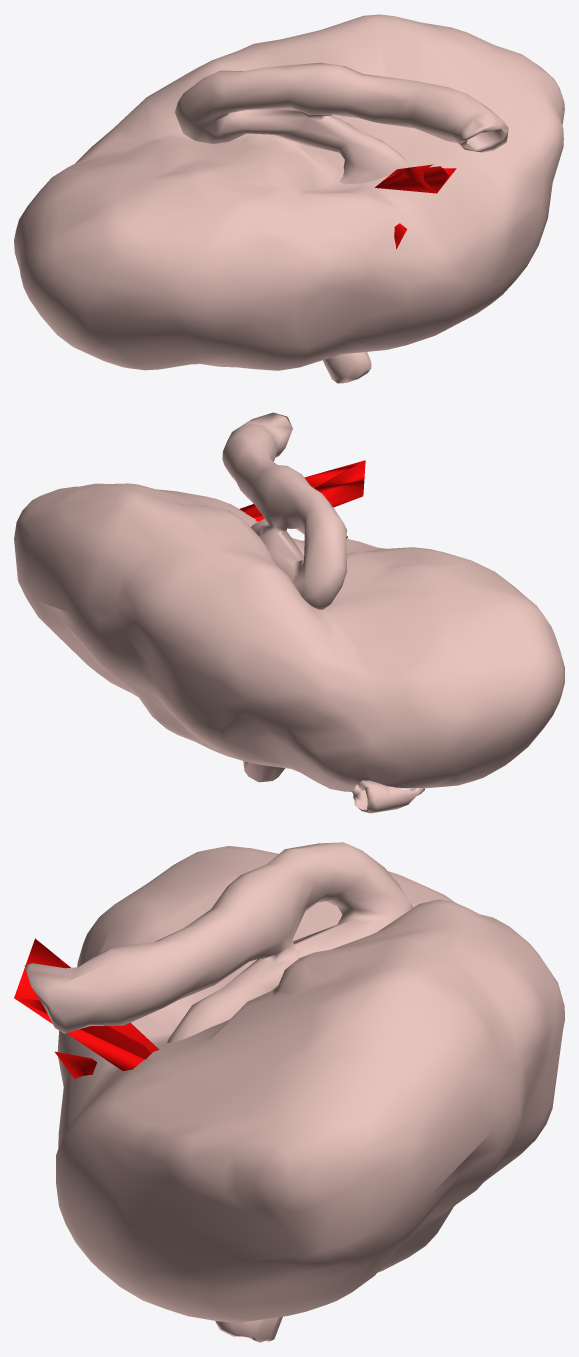
The model's file is NIH_F_Lymph_Node.glb.
The picture shows the model from 3 angles, top to bottom: view 1: azimuth 30°, elevation 25°; view 2: azimuth 150°, elevation 25°; view 3: azimuth 270°, elevation 25°; orthographic projection. The views are drawn at different scales.
Visible parts, largest first — view 1: Yao_capsule_of_lymph_node, Yao_efferent_lymph_node, Yao_blood_vasculature, Yao_afferent_lymphatic_vessel; view 2: Yao_capsule_of_lymph_node, Yao_efferent_lymph_node, Yao_afferent_lymphatic_vessel, Yao_blood_vasculature; view 3: Yao_capsule_of_lymph_node, Yao_efferent_lymph_node, Yao_blood_vasculature, Yao_afferent_lymphatic_vessel.
Boxes of the visible parts, box(x1,y1,x2,y2) form: Yao_capsule_of_lymph_node: box(14, 14, 564, 370); Yao_efferent_lymph_node: box(174, 62, 508, 183); Yao_blood_vasculature: box(374, 164, 456, 249); Yao_afferent_lymphatic_vessel: box(323, 352, 371, 383); Yao_capsule_of_lymph_node: box(14, 483, 564, 791); Yao_efferent_lymph_node: box(222, 412, 347, 609); Yao_afferent_lymphatic_vessel: box(243, 761, 424, 813); Yao_blood_vasculature: box(239, 460, 365, 538); Yao_capsule_of_lymph_node: box(56, 846, 564, 1322); Yao_efferent_lymph_node: box(24, 842, 413, 1042); Yao_blood_vasculature: box(14, 938, 159, 1078); Yao_afferent_lymphatic_vessel: box(215, 1316, 282, 1342).
Bounding box in the file's own units: 0.0196 × 0.0113 × 0.0125.
